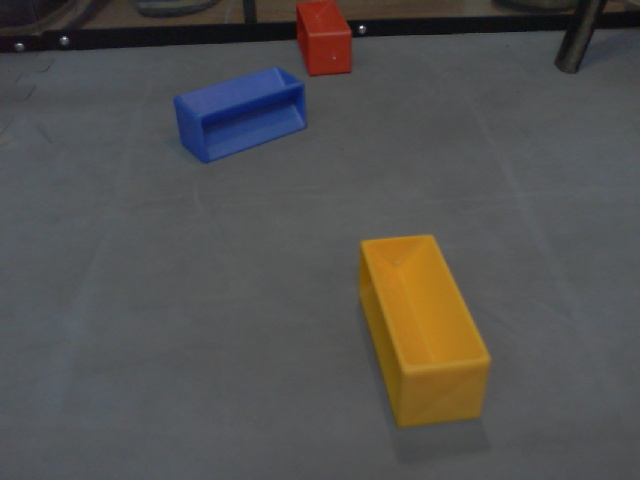BlueSample: (172, 64, 309, 167)
RedSample: (293, 2, 355, 76)
YellowSample: (352, 230, 491, 432)
